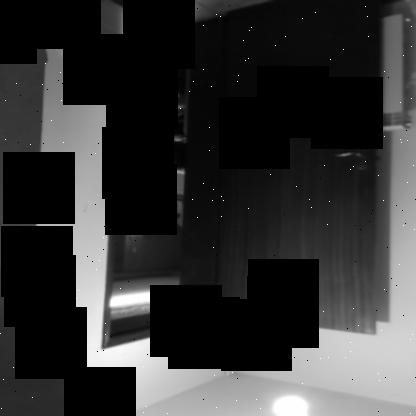Porte: (99, 0, 384, 352)
